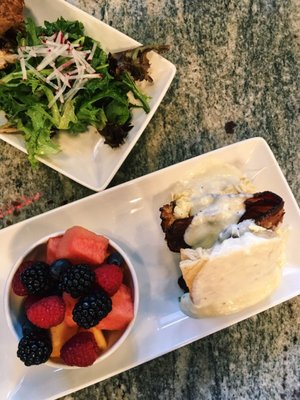sushi: (0, 3, 176, 193), (1, 224, 141, 370)
